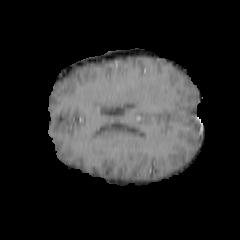glioma: (126, 83, 160, 105)
